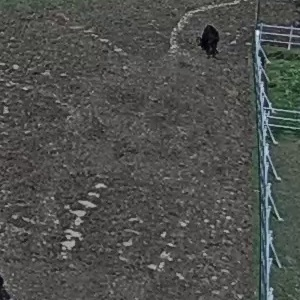cow: (180, 17, 227, 60)
